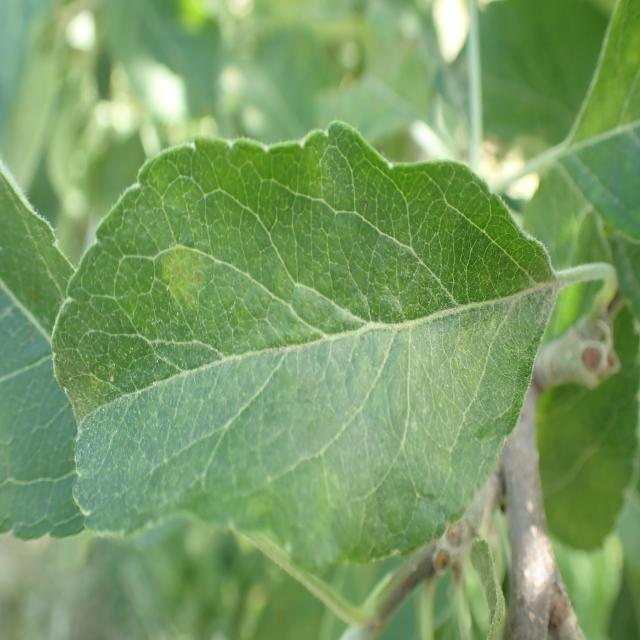scab: (53, 165, 533, 496)
